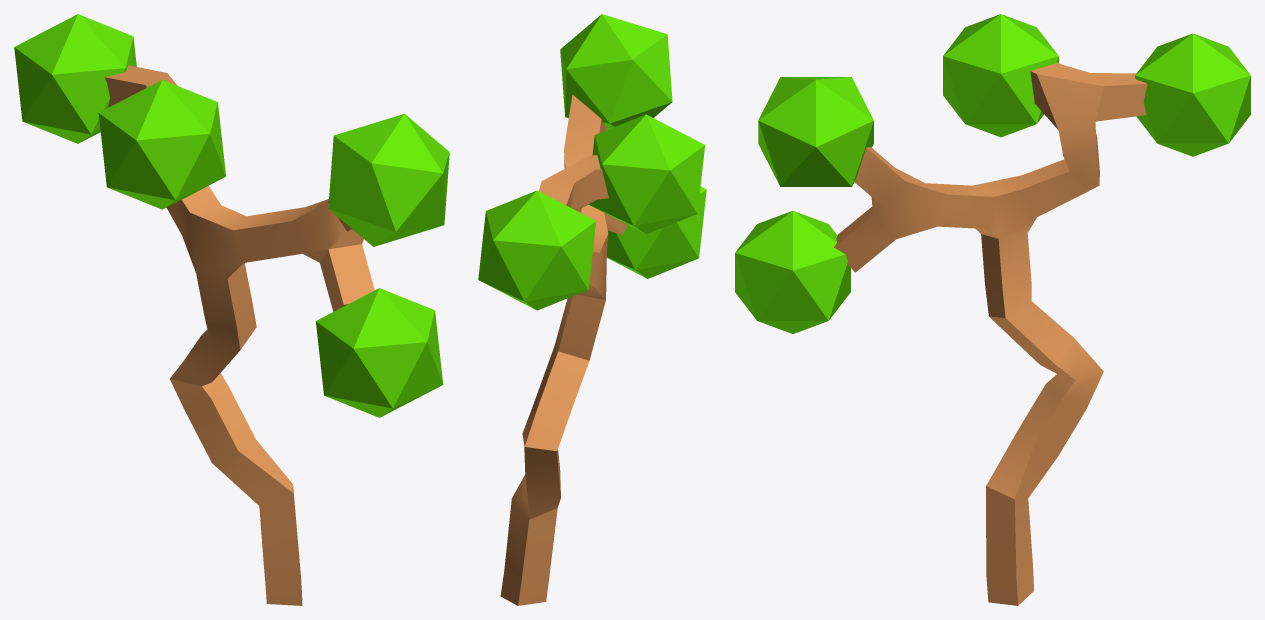
Rendered from boom.fbx.
3 views of the same model, side by side, from view 1: azimuth 30°, elevation 25°; view 2: azimuth 150°, elevation 25°; view 3: azimuth 270°, elevation 25° (orthographic). The views are drawn at different scales.
Parts seen in each view (by area): view 1: Cube; view 2: Cube; view 3: Cube.
Boxes of the visible parts, x1,y1,x2,y2 form: Cube: [14, 14, 449, 605]; Cube: [478, 14, 706, 605]; Cube: [735, 14, 1250, 605].
Bounding box in the file's own units: 130 × 281 × 249.
